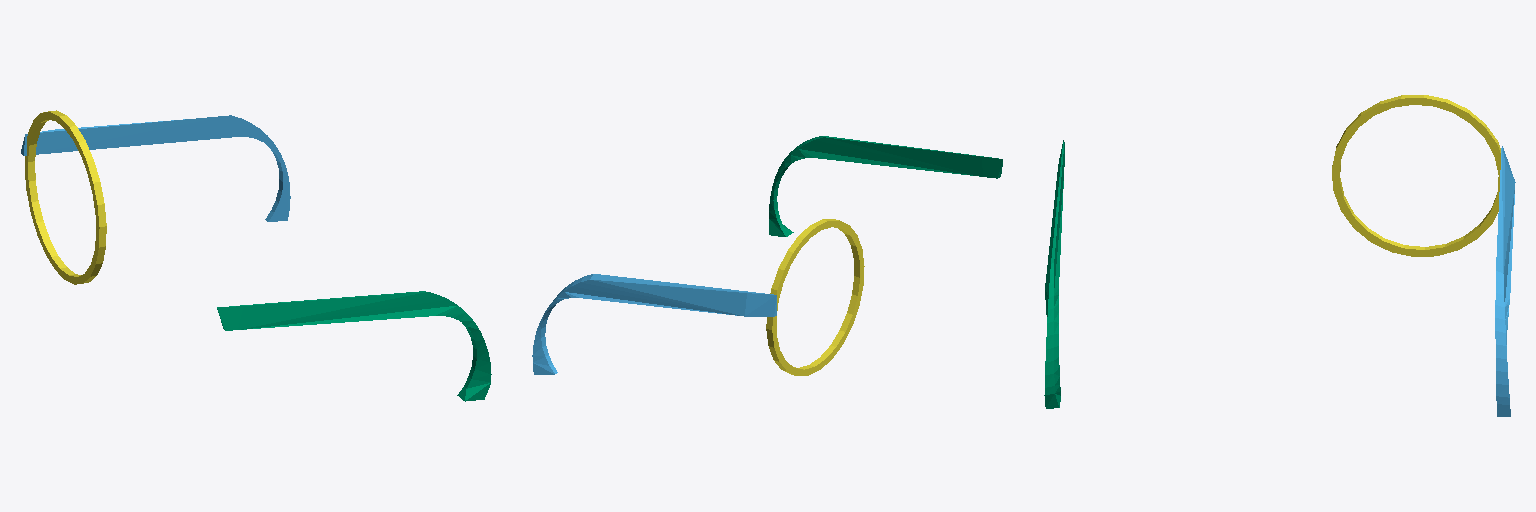
robot.urdf — partnet_59514f197c4984483d2dd82a57bb3bd7:
<?xml version="1.0" ?>
<robot name="partnet_59514f197c4984483d2dd82a57bb3bd7">
	<link name="base"/>
	<link name="link_0">
		<visual name="leg-1">
			<origin xyz="0.6191767688279016 -0.1356937248580672 -0.2351828612194744"/>
			<geometry>
				<mesh filename="textured_objs/original-5.obj"/>
			</geometry>
		</visual>
		<collision>
			<origin xyz="0.6191767688279016 -0.1356937248580672 -0.2351828612194744"/>
			<geometry>
				<mesh filename="textured_objs/original-5.obj"/>
			</geometry>
		</collision>
	</link>
	<joint name="joint_0" type="revolute">
		<origin xyz="-0.6191767688279016 0.1356937248580672 0.2351828612194744"/>
		<axis xyz="0 -1 0"/>
		<child link="link_0"/>
		<parent link="link_2"/>
		<limit lower="-0.0" upper="1.300619358586174"/>
	</joint>
	<link name="link_1">
		<visual name="leg-2">
			<origin xyz="-0.7039502006397401 0 -0.3298219580308154"/>
			<geometry>
				<mesh filename="textured_objs/original-6.obj"/>
			</geometry>
		</visual>
		<collision>
			<origin xyz="-0.7039502006397401 0 -0.3298219580308154"/>
			<geometry>
				<mesh filename="textured_objs/original-6.obj"/>
			</geometry>
		</collision>
	</link>
	<joint name="joint_1" type="revolute">
		<origin xyz="0.7039502006397401 0 0.3298219580308154"/>
		<axis xyz="0 1 0"/>
		<child link="link_1"/>
		<parent link="link_2"/>
		<limit lower="0.0" upper="1.1812388377497622"/>
	</joint>
	<link name="link_2">
		<visual name="base_body-3">
			<origin xyz="0 0 0"/>
			<geometry>
				<mesh filename="textured_objs/original-4.obj"/>
			</geometry>
		</visual>
		<visual name="base_body-3">
			<origin xyz="0 0 0"/>
			<geometry>
				<mesh filename="textured_objs/original-3.obj"/>
			</geometry>
		</visual>
		<visual name="base_body-3">
			<origin xyz="0 0 0"/>
			<geometry>
				<mesh filename="textured_objs/original-2.obj"/>
			</geometry>
		</visual>
		<collision>
			<origin xyz="0 0 0"/>
			<geometry>
				<mesh filename="textured_objs/original-4.obj"/>
			</geometry>
		</collision>
		<collision>
			<origin xyz="0 0 0"/>
			<geometry>
				<mesh filename="textured_objs/original-3.obj"/>
			</geometry>
		</collision>
		<collision>
			<origin xyz="0 0 0"/>
			<geometry>
				<mesh filename="textured_objs/original-2.obj"/>
			</geometry>
		</collision>
	</link>
	<joint name="joint_2" type="fixed">
		<origin rpy="1.570796326794897 0 -1.570796326794897" xyz="0 0 0"/>
		<child link="link_2"/>
		<parent link="base"/>
	</joint>
</robot>

--- Facts derived from the render (not from the file) ---
Views: 3 orthographic renders of the robot side by side, from view 1: azimuth 30°, elevation 25°; view 2: azimuth 150°, elevation 25°; view 3: azimuth 270°, elevation 25°.
Robot: partnet_59514f197c4984483d2dd82a57bb3bd7 — 4 links, 3 joints (2 revolute, 1 fixed); root link base; default pose: all joints at 0.
Links seen in each view (by area): view 1: link_1, link_0, link_2; view 2: link_0, link_1, link_2; view 3: link_2, link_0, link_1.
Boxes of the visible links, box(x1,y1,x2,y2) form: link_1: box(217, 291, 491, 401); link_0: box(21, 115, 290, 221); link_2: box(25, 110, 106, 284); link_0: box(532, 274, 776, 374); link_1: box(769, 136, 1002, 236); link_2: box(766, 219, 864, 375); link_2: box(1332, 95, 1500, 256); link_0: box(1495, 146, 1515, 416); link_1: box(1044, 140, 1064, 408).
Bounding box of the posed robot: 1.01 × 1.43 × 0.668 m (x, y, z).
Meshes: 5 distinct files referenced, 3 mesh visuals loaded (3 OBJ); not drawn: 2 (reference not matched to a file when rendering).
